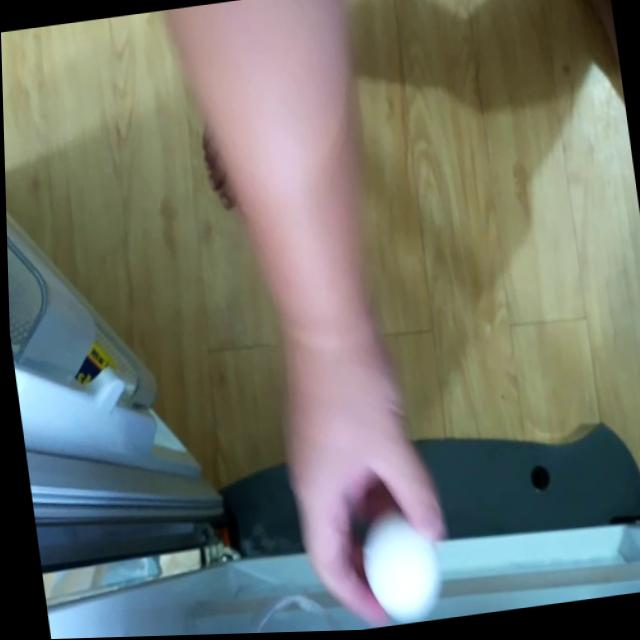egg: (348, 506, 441, 625)
